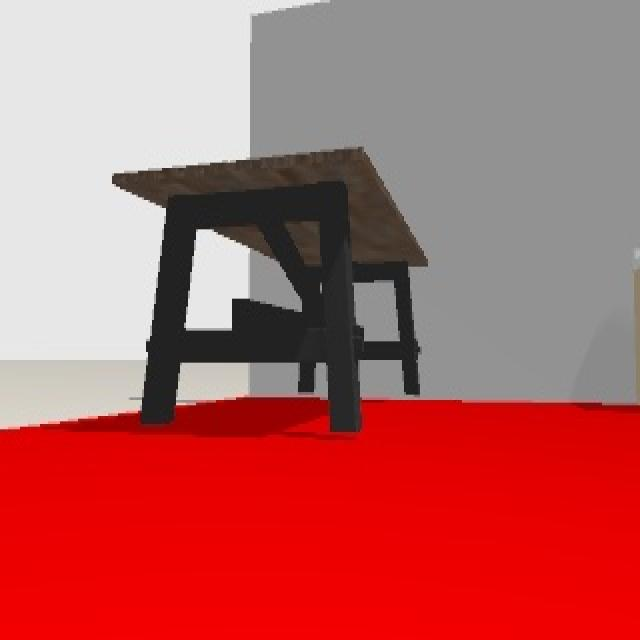dining: (112, 150, 426, 443)
